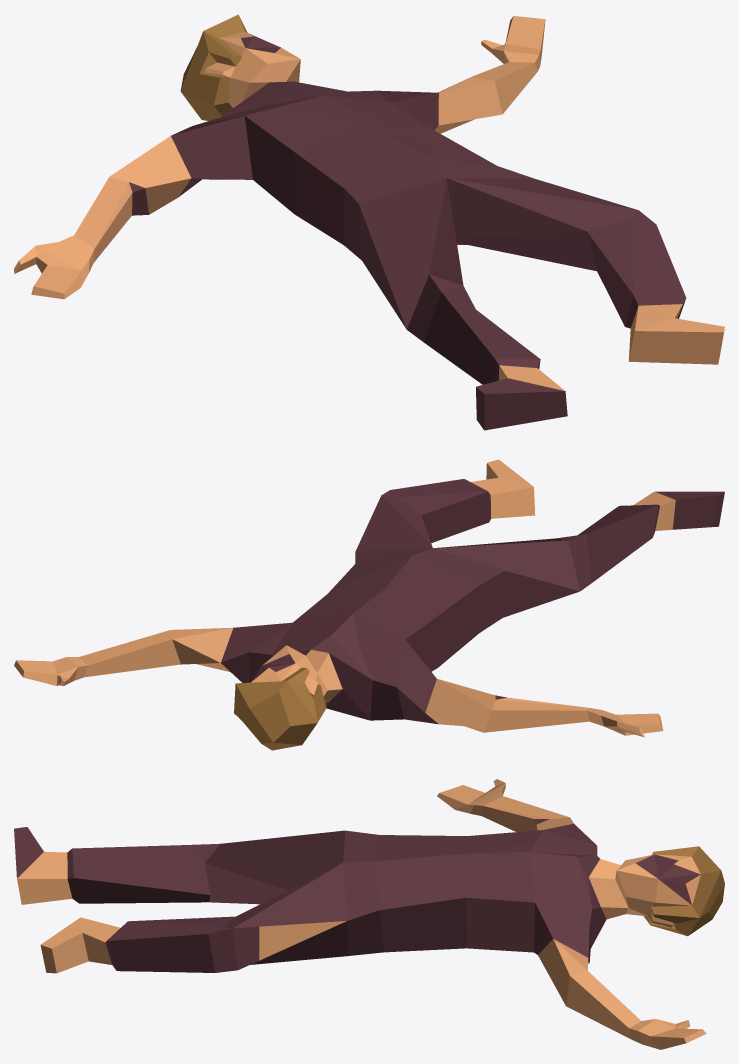
Rendered from man-shirt-dead-c.fbx.
3 views of the same model, one above another, from view 1: azimuth 30°, elevation 25°; view 2: azimuth 150°, elevation 25°; view 3: azimuth 270°, elevation 25° (orthographic). The views are drawn at different scales.
Parts seen in each view (by area): view 1: man-shirt-dead-c; view 2: man-shirt-dead-c; view 3: man-shirt-dead-c.
Boxes of the visible parts, x1=… form: man-shirt-dead-c: x1=14, y1=14, x2=724, y2=430; man-shirt-dead-c: x1=14, y1=459, x2=724, y2=750; man-shirt-dead-c: x1=14, y1=779, x2=724, y2=1049.
Bounding box in the file's own units: 1.63 × 0.2349 × 1.83.
